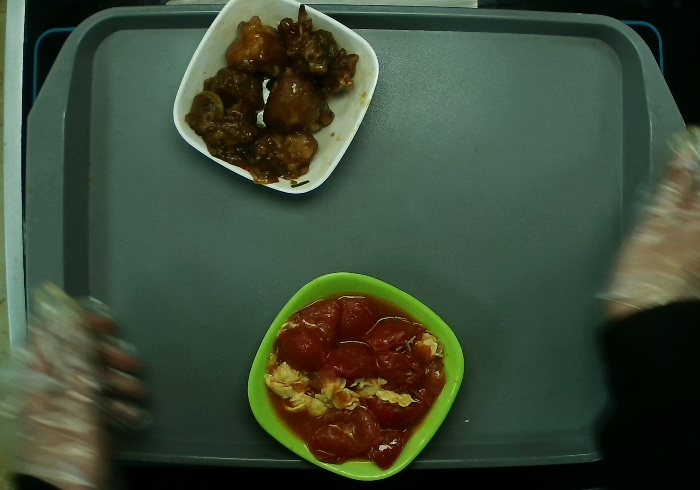SHKJ-Bai_Se_Xiao_Fang_Die: (171, 1, 381, 194)
SHKJ-Lv_Se_Cai_Die: (246, 270, 466, 482)
